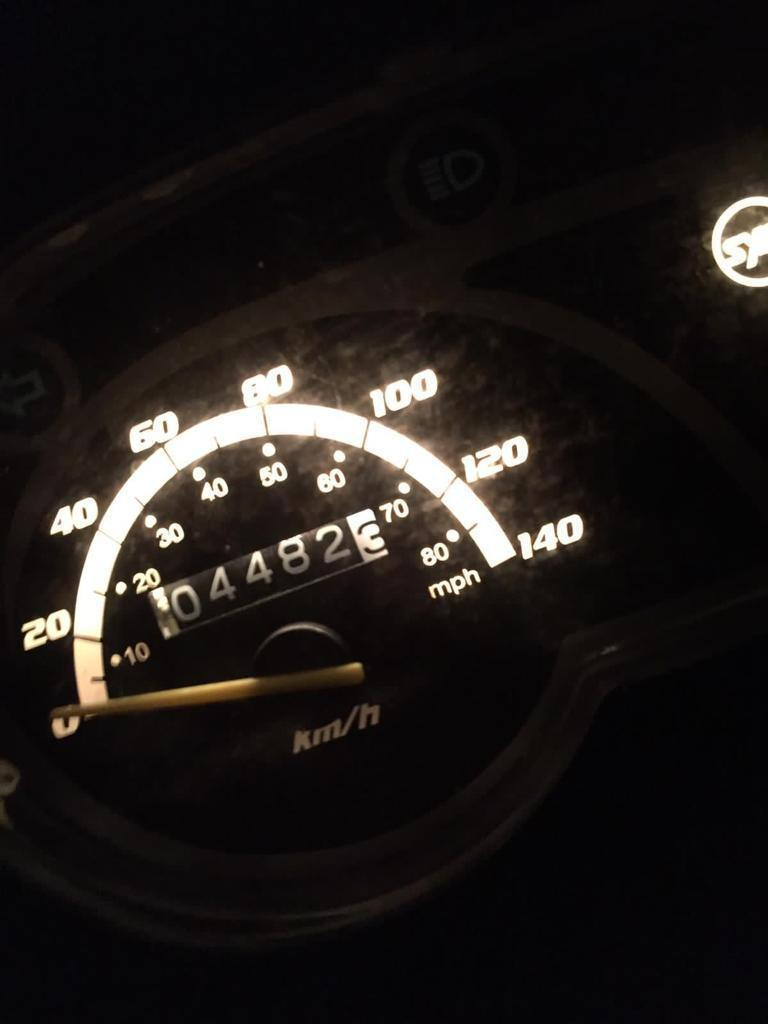0: (170, 583, 201, 621), (144, 567, 161, 587), (169, 522, 184, 543)
2: (315, 523, 352, 565)
3: (356, 520, 388, 554), (154, 527, 171, 549)
4: (243, 549, 274, 585), (207, 565, 236, 601)
7: (378, 501, 393, 523)
8: (277, 538, 311, 575)
odometer: (143, 505, 390, 641)
